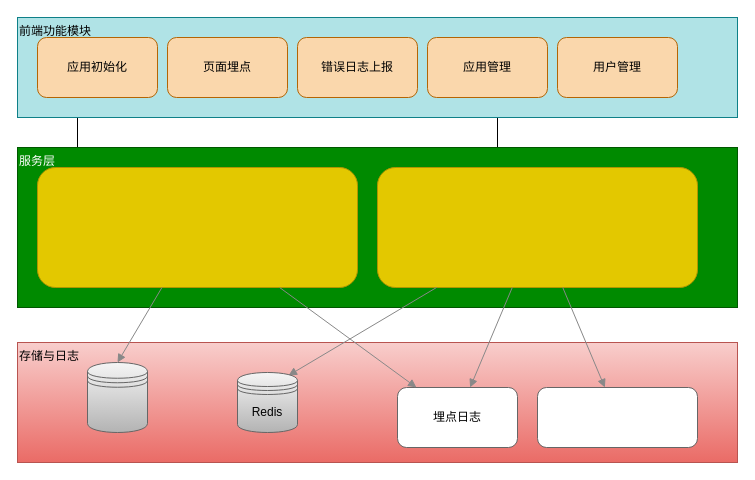
Image size: 755x480. Some labels were removed from this diagram. The centre of each missing label's shape, as x and y in pixels:
MySql: (117,397)
埋点上报系统: (537,227)
数据后台系统: (197,227)
物联网日志: (617,417)
